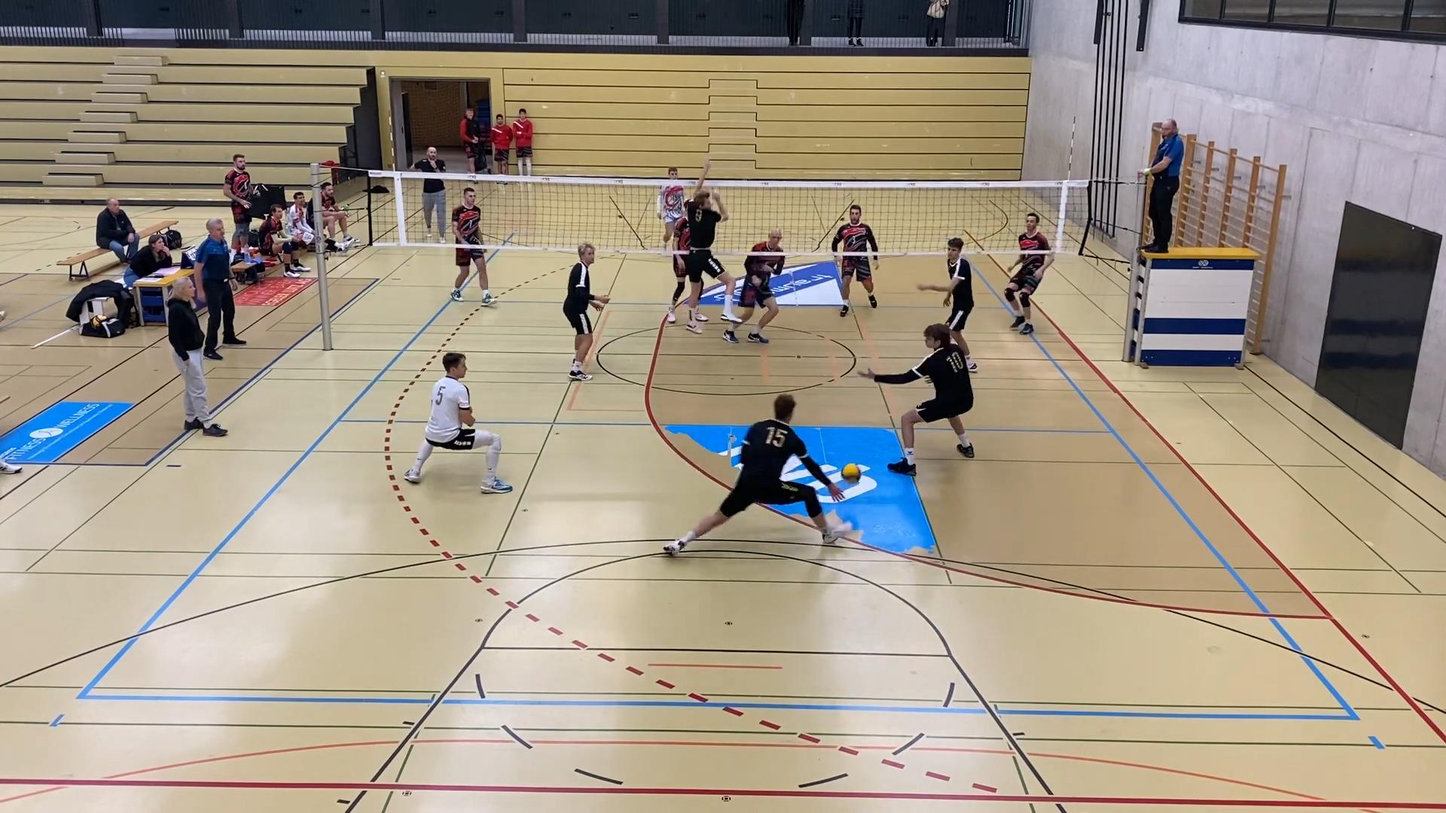Dig: (661, 390, 850, 560)
Player: (859, 324, 974, 475), (404, 352, 512, 492), (685, 160, 738, 333), (917, 238, 977, 372), (723, 230, 784, 343), (563, 242, 609, 381), (1004, 212, 1053, 334), (450, 187, 494, 305), (831, 204, 877, 315), (667, 215, 690, 324), (657, 168, 685, 244)
ball: (841, 460, 861, 483)
